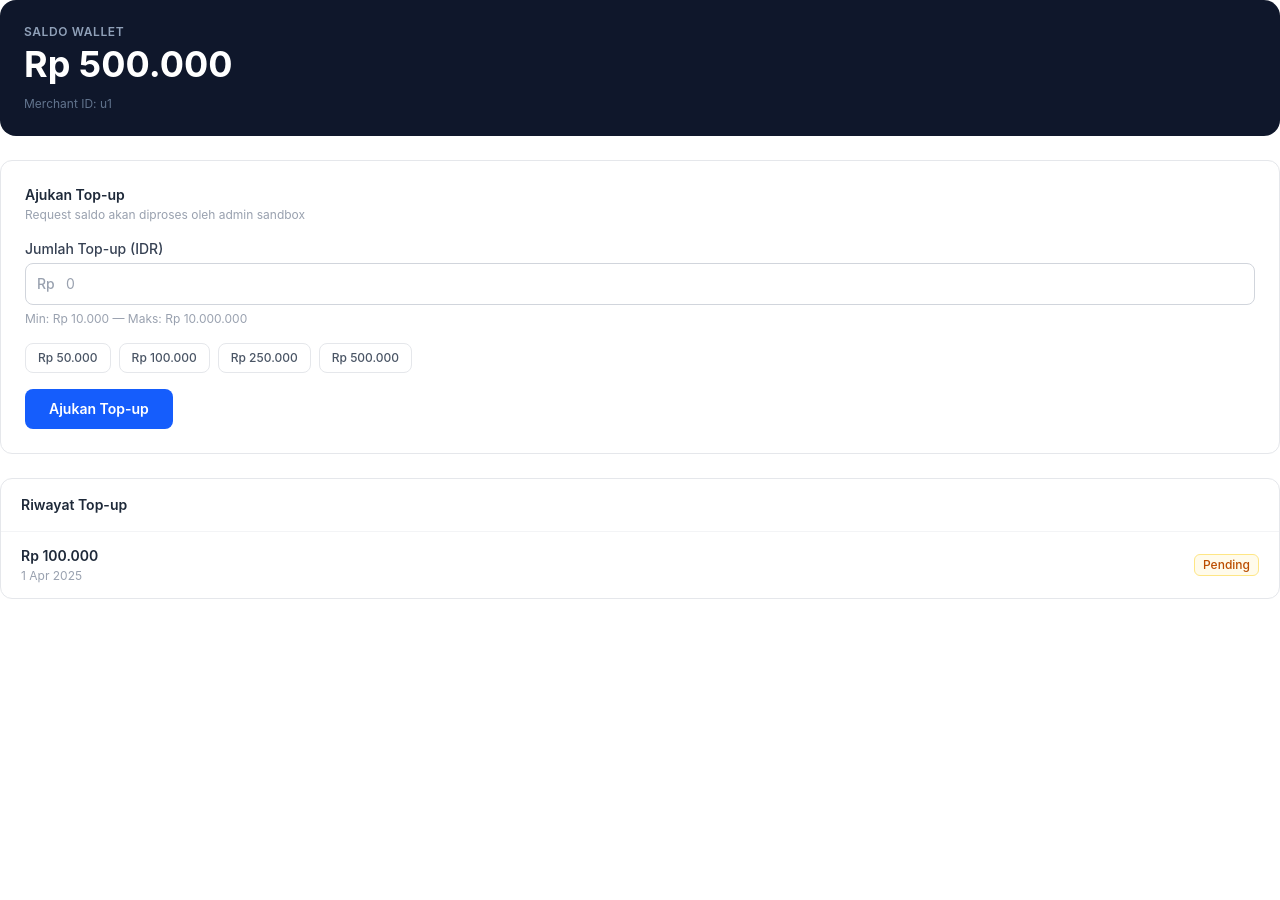
WalletPage › shows validation error when amount is too low
In the field labelled "Jumlah Top-up (IDR)": (640, 284) [25,263,1255,305], type "5000"
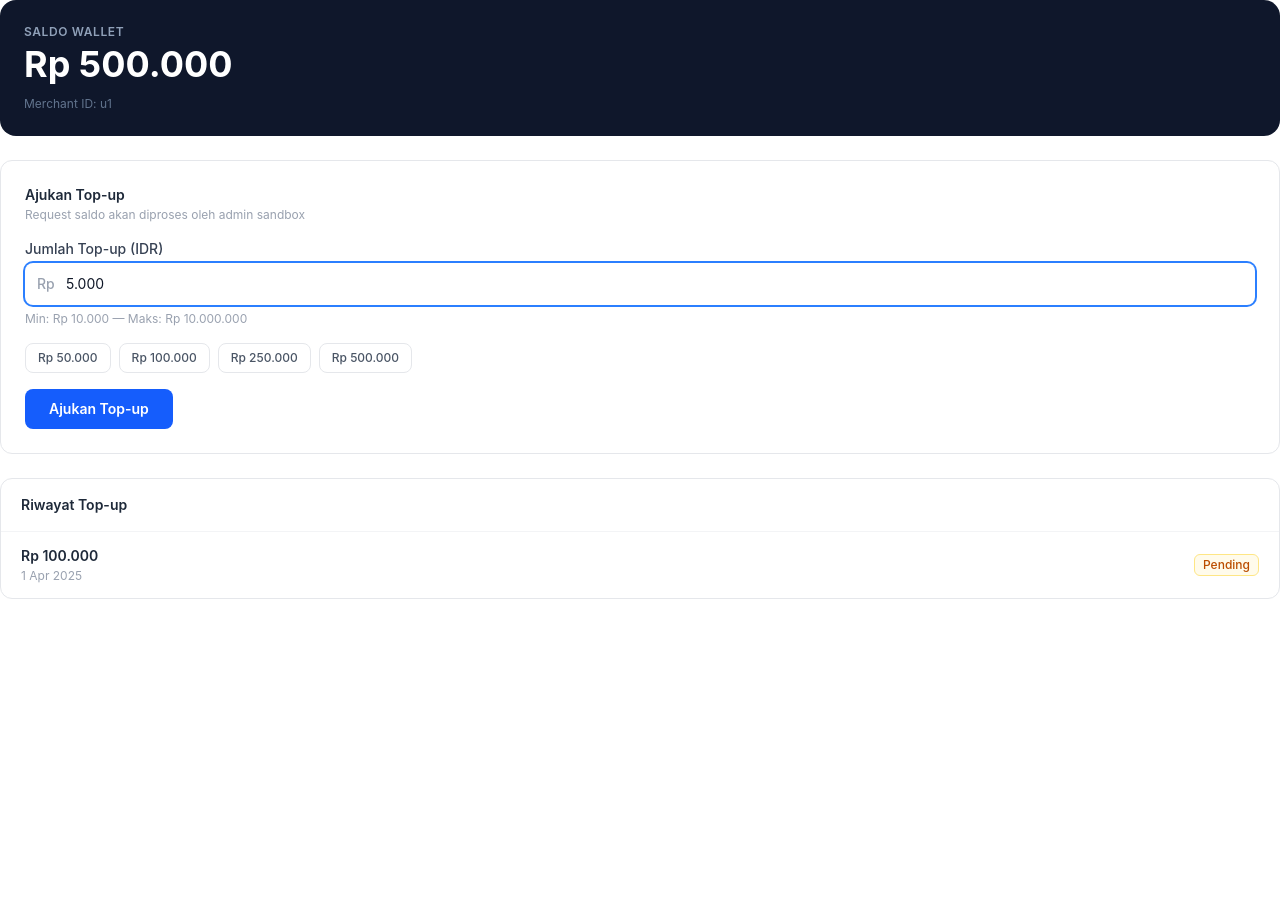
Click the button "Ajukan Top-up": (99, 409) [25,389,173,429]
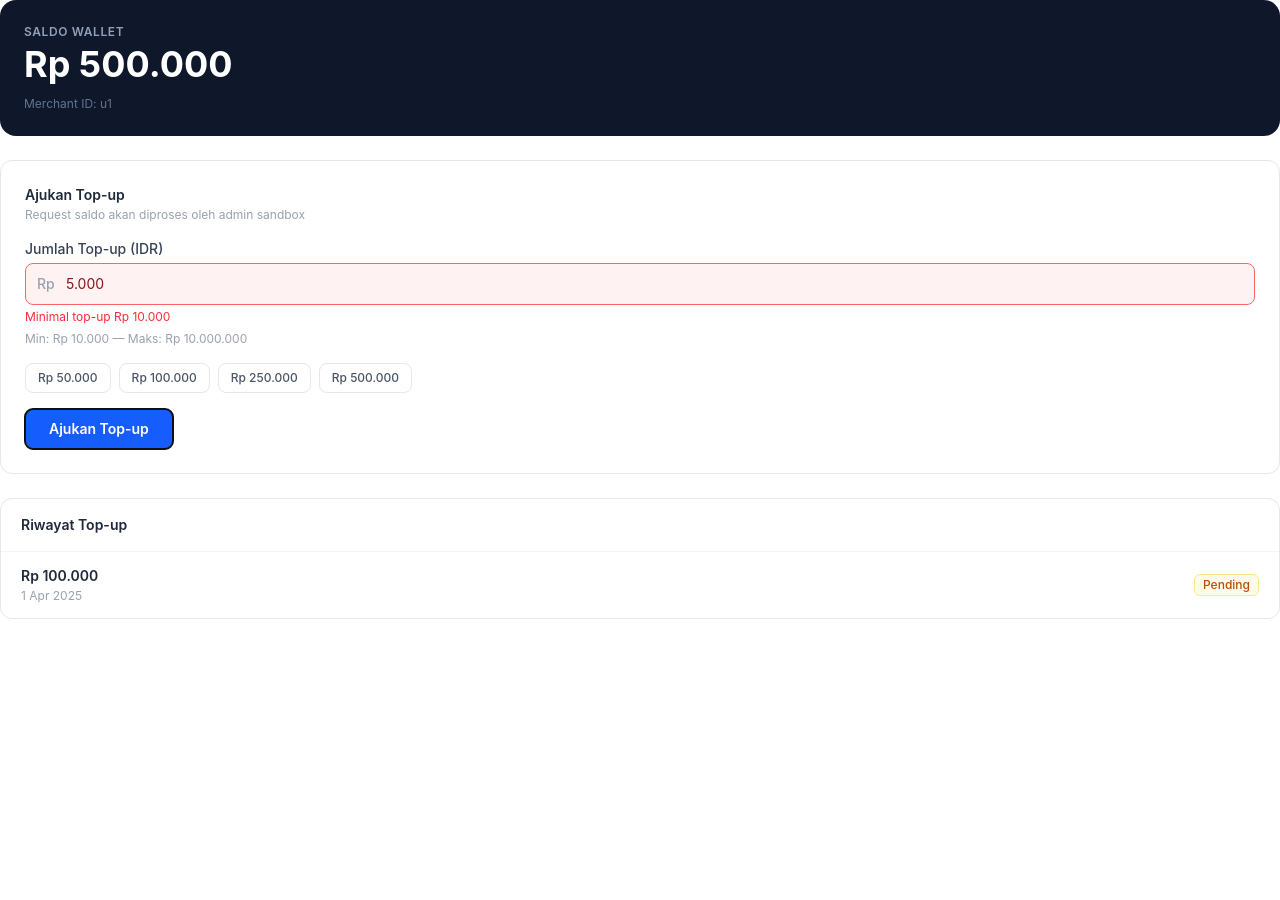
Expected: the text "Minimal top-up Rp 10.000" is shown, [25,309,170,324]
